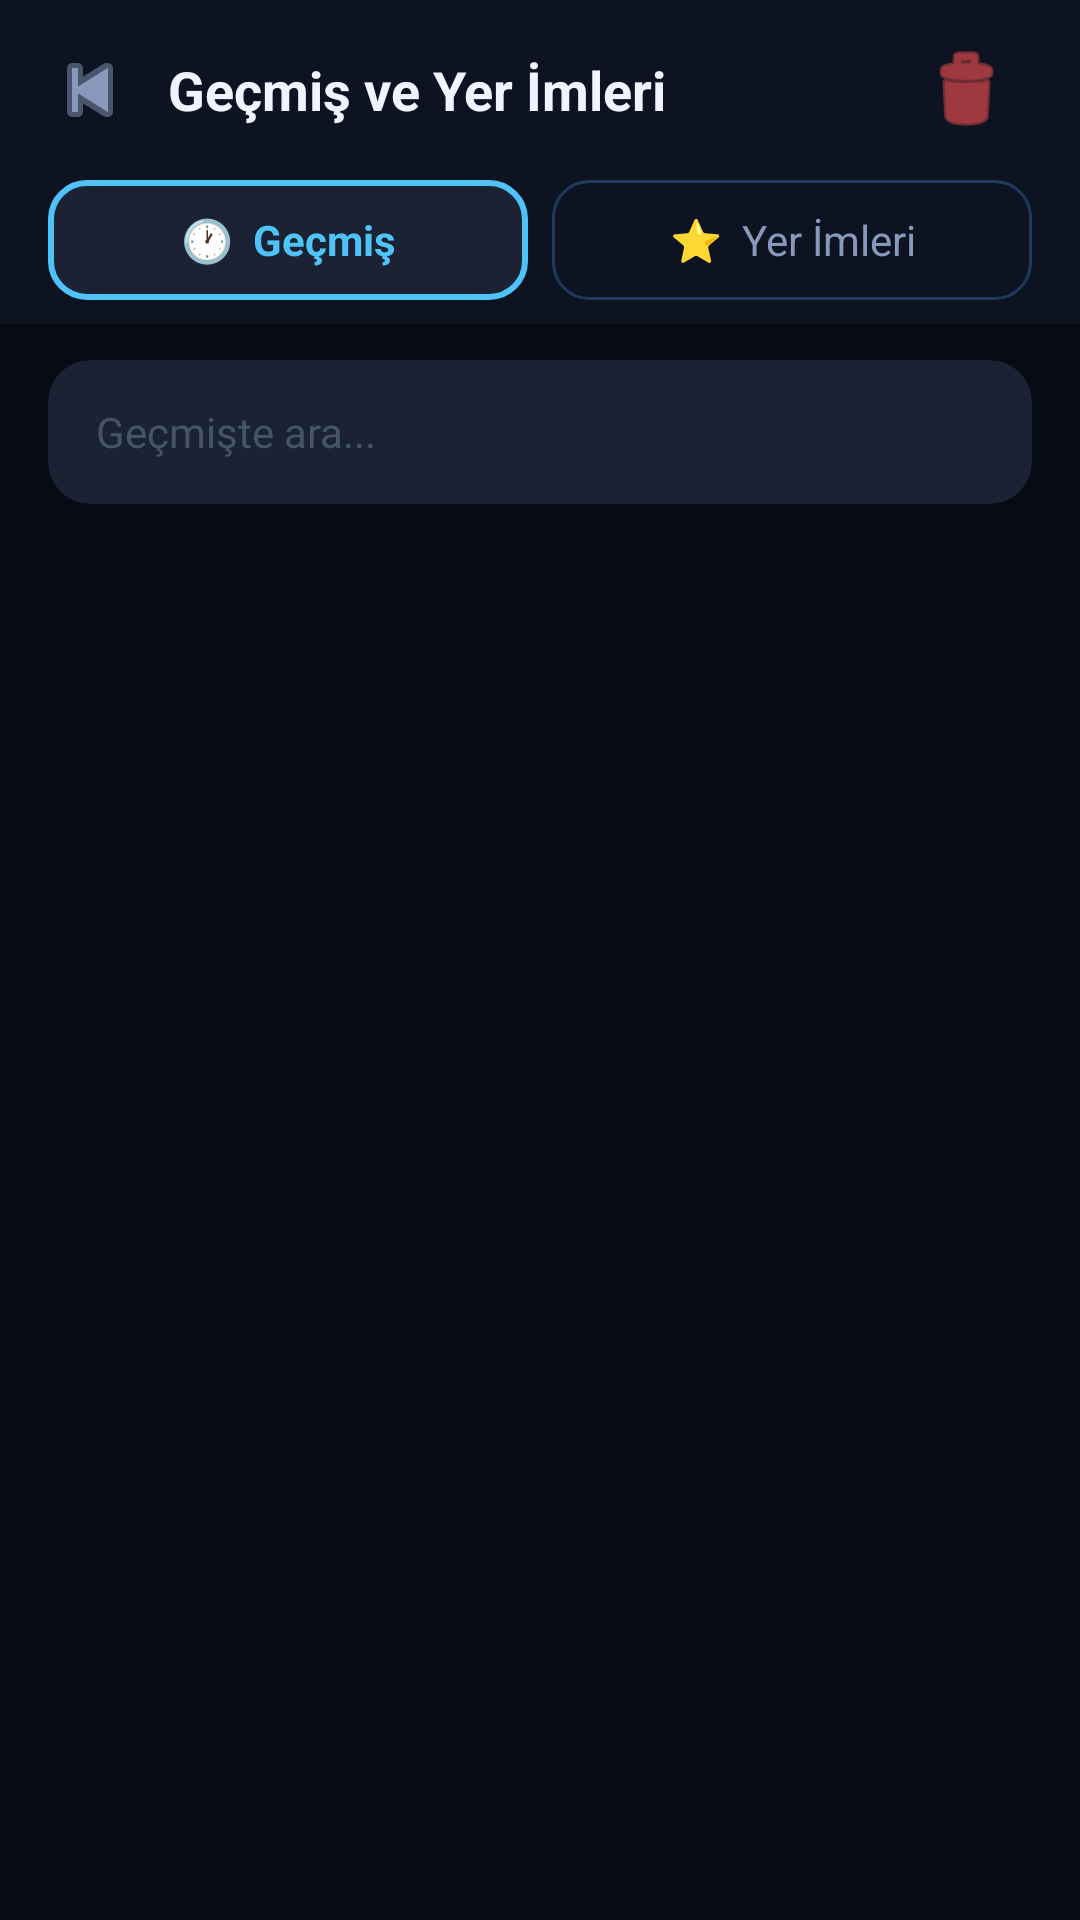

Screen size 1080px x 1920px. Icon name, then its box in pixels as box(x1, y1, x2, y2):
delete: box(939, 51, 994, 126)
previous: box(67, 63, 113, 117)
